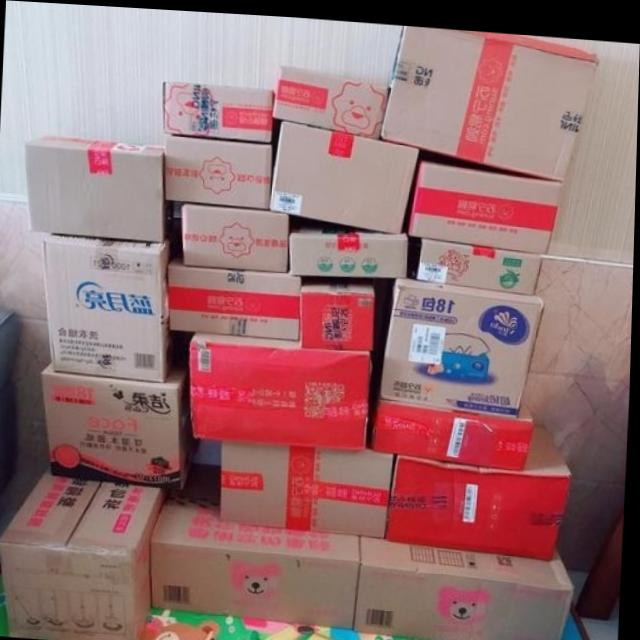box: (153, 459, 362, 625), (380, 20, 598, 175), (1, 466, 167, 640), (387, 415, 574, 554), (357, 529, 576, 640), (376, 272, 546, 412), (192, 329, 373, 445), (43, 357, 202, 488), (44, 232, 170, 379), (223, 438, 395, 535), (269, 117, 419, 228), (404, 155, 564, 249), (24, 136, 167, 238), (371, 389, 536, 463), (169, 256, 303, 337), (273, 61, 391, 134), (166, 132, 273, 207), (410, 231, 546, 289), (182, 201, 289, 268), (164, 79, 273, 139), (290, 218, 409, 272), (303, 273, 376, 347)
